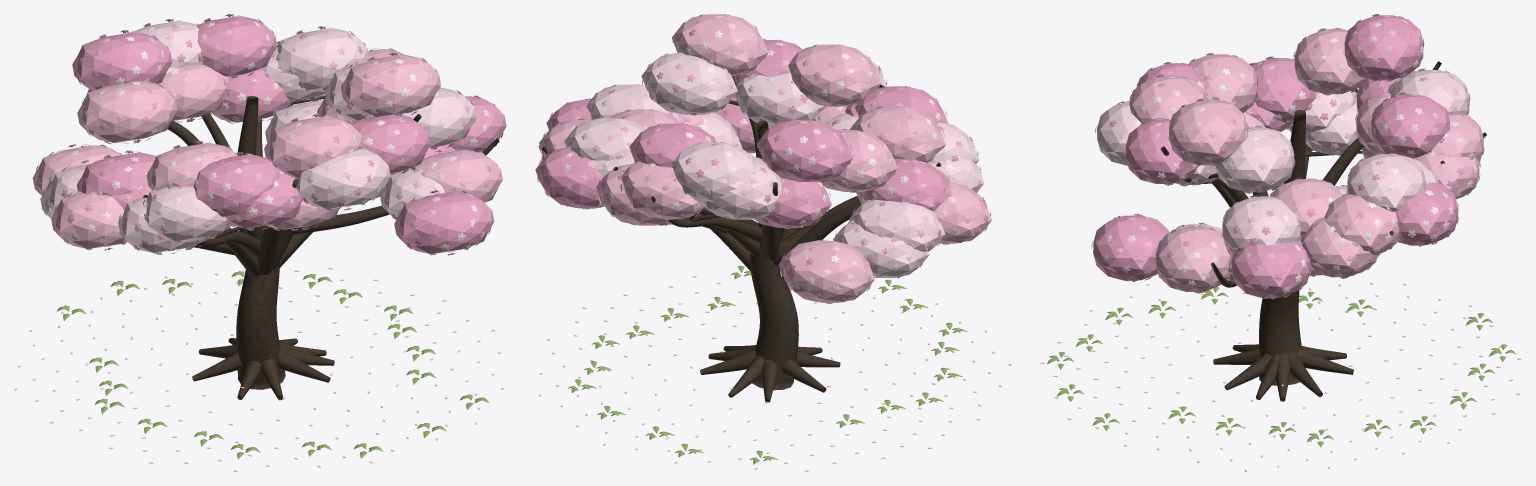
The model's file is scenic_sakura-refined-v3.glb.
The picture shows the model from 3 angles, left to right: view 1: azimuth 30°, elevation 25°; view 2: azimuth 150°, elevation 25°; view 3: azimuth 270°, elevation 25°; orthographic projection. The views are drawn at different scales.
Parts seen in each view (by area): view 1: scenic_sakura | scenic:flower-cloud.002, scenic_sakura | scenic:flower-cloud.001, scenic_sakura | scenic:flower-cloud, scenic_sakura | scenic:continuous-branch:scenic_sakura, scenic_sakura | scenic:blossom.001, scenic_sakura | scenic:blossom, scenic_sakura | scenic:blossom.002, scenic_sakura | scenic:blossom.003, scenic_sakura | scenic:leaf-sprig, scenic_sakura | scenic:fallen-petal; view 2: scenic_sakura | scenic:flower-cloud.001, scenic_sakura | scenic:flower-cloud, scenic_sakura | scenic:flower-cloud.002, scenic_sakura | scenic:continuous-branch:scenic_sakura, scenic_sakura | scenic:blossom.002, scenic_sakura | scenic:blossom.003, scenic_sakura | scenic:blossom, scenic_sakura | scenic:blossom.001, scenic_sakura | scenic:leaf-sprig, scenic_sakura | scenic:fallen-petal; view 3: scenic_sakura | scenic:flower-cloud.001, scenic_sakura | scenic:flower-cloud.002, scenic_sakura | scenic:flower-cloud, scenic_sakura | scenic:continuous-branch:scenic_sakura, scenic_sakura | scenic:blossom, scenic_sakura | scenic:blossom.003, scenic_sakura | scenic:blossom.002, scenic_sakura | scenic:leaf-sprig, scenic_sakura | scenic:blossom.001, scenic_sakura | scenic:fallen-petal.
Boxes of the visible parts, x1=… form: scenic_sakura | scenic:flower-cloud.002: x1=72, y1=16, x2=506, y2=253; scenic_sakura | scenic:flower-cloud.001: x1=32, y1=49, x2=502, y2=248; scenic_sakura | scenic:flower-cloud: x1=40, y1=21, x2=476, y2=252; scenic_sakura | scenic:continuous-branch:scenic_sakura: x1=143, y1=96, x2=499, y2=400; scenic_sakura | scenic:blossom.001: x1=34, y1=14, x2=503, y2=252; scenic_sakura | scenic:blossom: x1=35, y1=15, x2=497, y2=255; scenic_sakura | scenic:blossom.002: x1=46, y1=18, x2=503, y2=251; scenic_sakura | scenic:blossom.003: x1=42, y1=22, x2=500, y2=255; scenic_sakura | scenic:leaf-sprig: x1=56, y1=271, x2=489, y2=459; scenic_sakura | scenic:fallen-petal: x1=14, y1=266, x2=503, y2=471; scenic_sakura | scenic:flower-cloud.001: x1=538, y1=14, x2=991, y2=302; scenic_sakura | scenic:flower-cloud: x1=564, y1=52, x2=983, y2=278; scenic_sakura | scenic:flower-cloud.002: x1=535, y1=40, x2=950, y2=227; scenic_sakura | scenic:continuous-branch:scenic_sakura: x1=542, y1=76, x2=940, y2=402; scenic_sakura | scenic:blossom.002: x1=541, y1=16, x2=987, y2=300; scenic_sakura | scenic:blossom.003: x1=538, y1=14, x2=990, y2=291; scenic_sakura | scenic:blossom: x1=537, y1=14, x2=978, y2=300; scenic_sakura | scenic:blossom.001: x1=540, y1=19, x2=981, y2=303; scenic_sakura | scenic:leaf-sprig: x1=568, y1=265, x2=967, y2=464; scenic_sakura | scenic:fallen-petal: x1=539, y1=275, x2=1011, y2=471; scenic_sakura | scenic:flower-cloud.001: x1=1129, y1=29, x2=1483, y2=291; scenic_sakura | scenic:flower-cloud.002: x1=1093, y1=15, x2=1458, y2=298; scenic_sakura | scenic:flower-cloud: x1=1097, y1=70, x2=1469, y2=253; scenic_sakura | scenic:continuous-branch:scenic_sakura: x1=1160, y1=61, x2=1486, y2=401; scenic_sakura | scenic:blossom: x1=1095, y1=16, x2=1480, y2=297; scenic_sakura | scenic:blossom.003: x1=1091, y1=20, x2=1477, y2=299; scenic_sakura | scenic:blossom.002: x1=1095, y1=19, x2=1484, y2=294; scenic_sakura | scenic:leaf-sprig: x1=1047, y1=287, x2=1515, y2=447; scenic_sakura | scenic:blossom.001: x1=1102, y1=14, x2=1479, y2=293; scenic_sakura | scenic:fallen-petal: x1=1040, y1=272, x2=1521, y2=471.
Size of the model in its own units: 22.78 by 15.81 by 21.66.
Materials: 7 (1 with a texture image).
